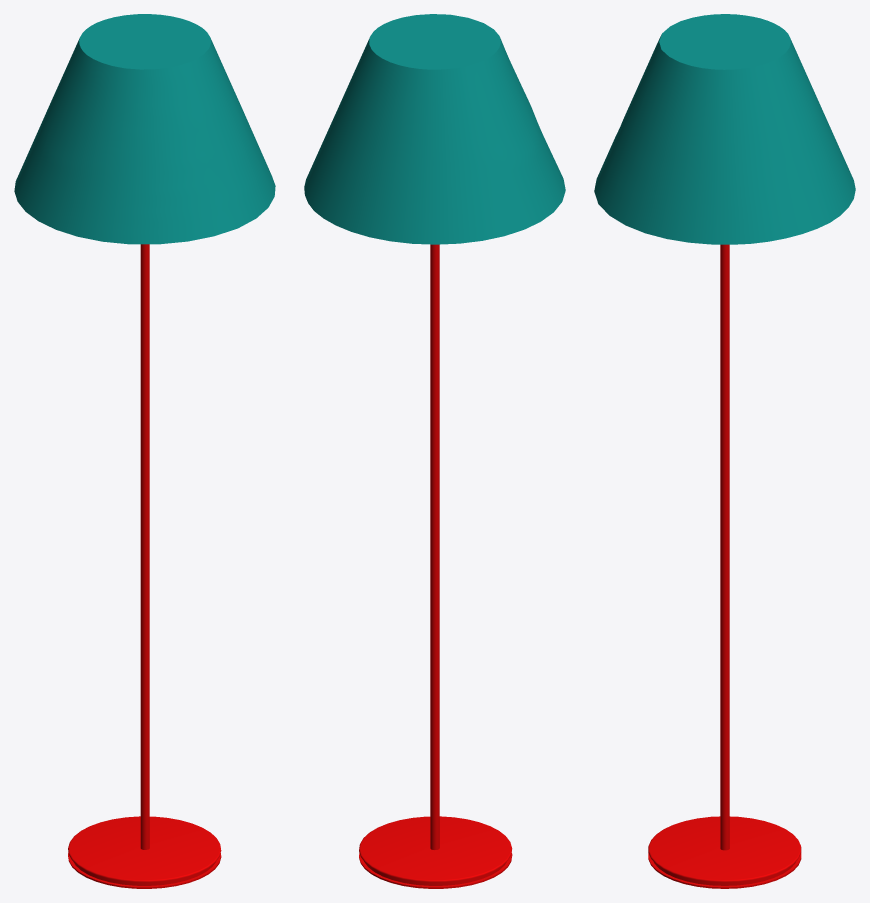
File: A_JD_LivingroomLamp_001.fbx
The picture shows the model from 3 angles, left to right: view 1: azimuth 30°, elevation 25°; view 2: azimuth 150°, elevation 25°; view 3: azimuth 270°, elevation 25°; orthographic projection.
Parts seen in each view (by area): view 1: Object; view 2: Object; view 3: Object.
Boxes of the visible parts, box(x1,y1,x2,y2) form: Object: box(14, 14, 275, 888); Object: box(304, 14, 565, 888); Object: box(594, 14, 855, 888).
Bounding box in the file's own units: 24.9 × 85.78 × 24.96.
